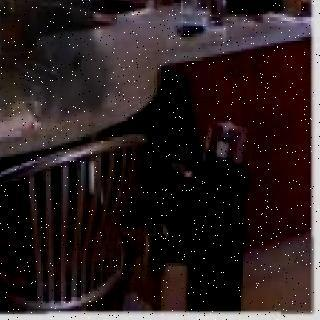smoke: (0, 0, 166, 125)
